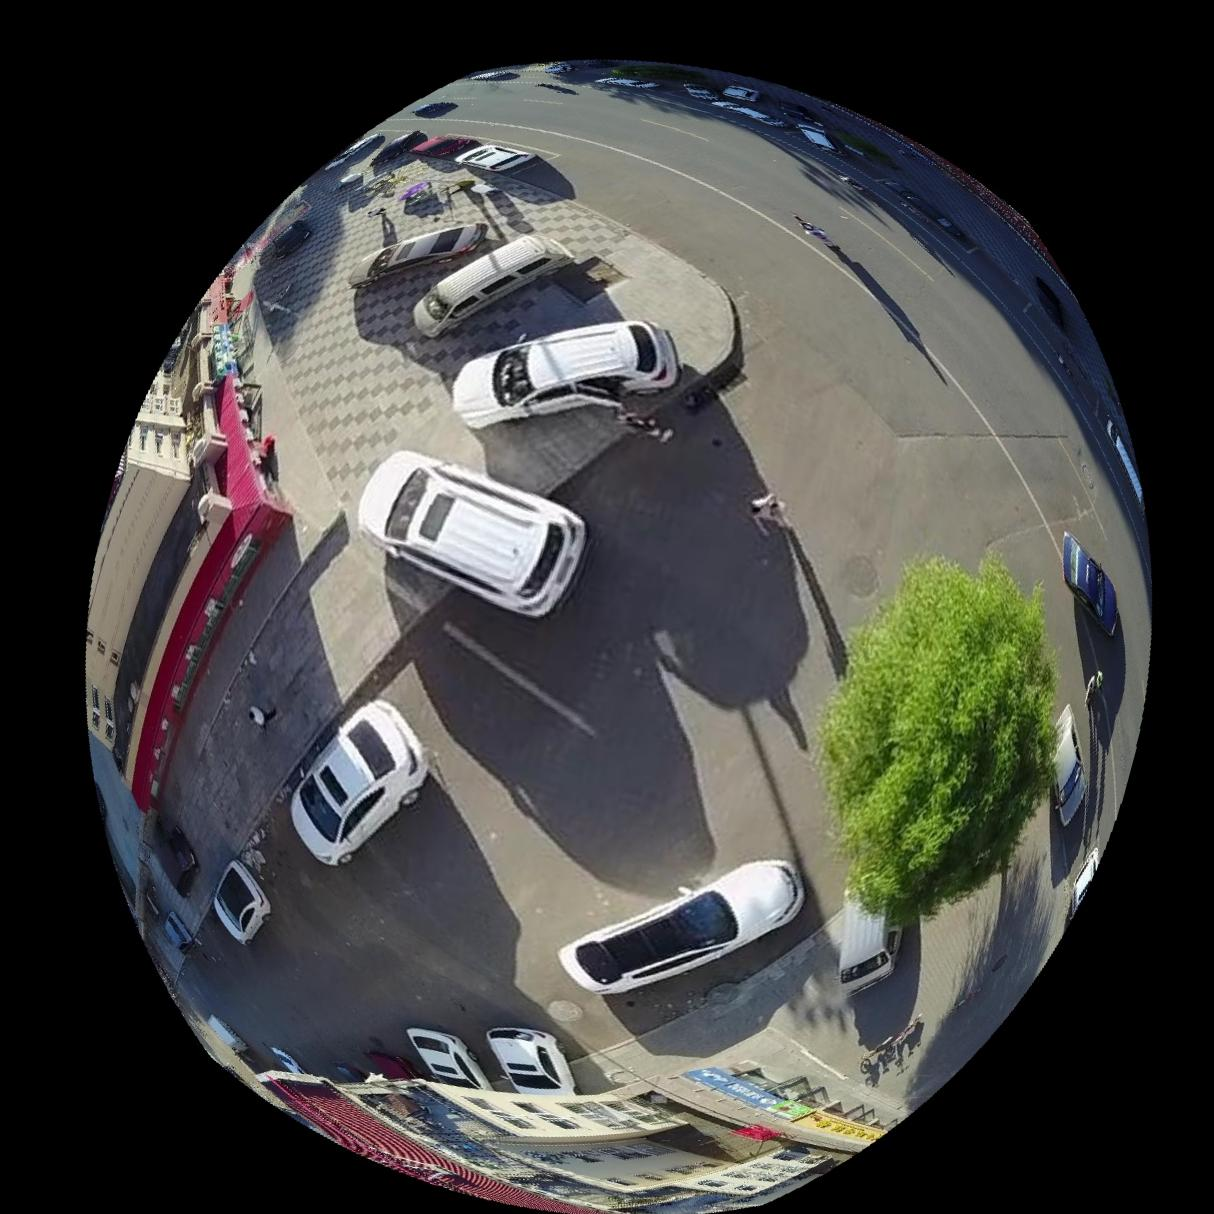building: (84, 273, 289, 812), (257, 1067, 885, 1214)
cars: (358, 449, 587, 616), (559, 858, 806, 994), (452, 318, 680, 426), (290, 700, 427, 866), (415, 232, 574, 335), (348, 220, 487, 285), (487, 1027, 576, 1095), (1065, 531, 1121, 634), (407, 1027, 491, 1091), (212, 859, 270, 944), (455, 140, 536, 169)
trees: (820, 556, 1059, 926)
